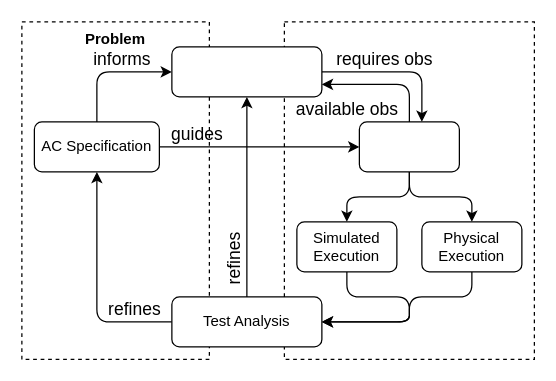
This 556x381 diagram has some shape labels left out. The shapes that lost their labels are listed below. From the top down, each one's box as (x1, y1, x2, y2) in pixels, then its label:
(171, 46, 322, 97): Observation Policy Specification
(358, 121, 459, 172): SuT Design
(283, 21, 534, 359): Solution
